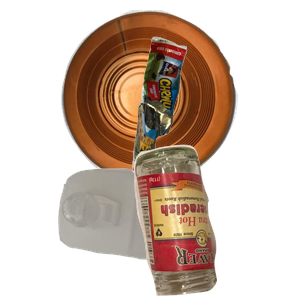glass: (131, 142, 300, 300)
metal: (58, 10, 289, 186)
plastic: (56, 166, 241, 300)
trash: (130, 34, 300, 203)
